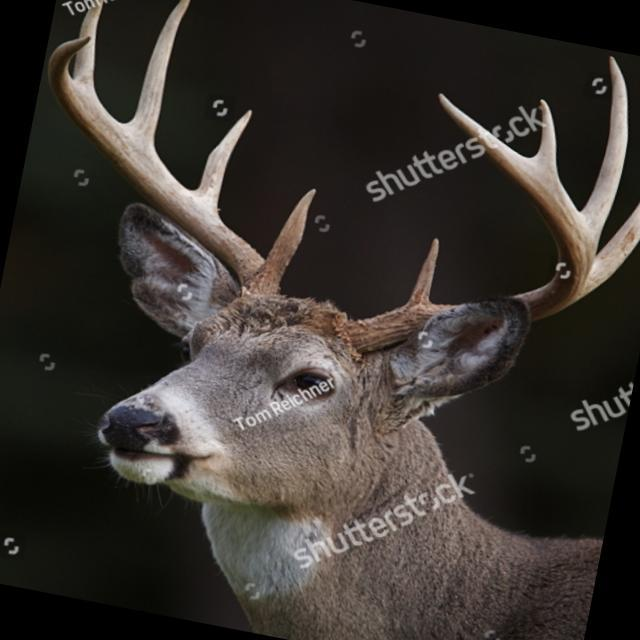L-G1: (404, 237, 440, 307)
L-G2: (582, 202, 640, 296)
L-G3: (581, 57, 628, 240)
R-G1: (263, 189, 318, 283)
R-G2: (190, 107, 252, 217)
R-G3: (123, 0, 193, 150)
